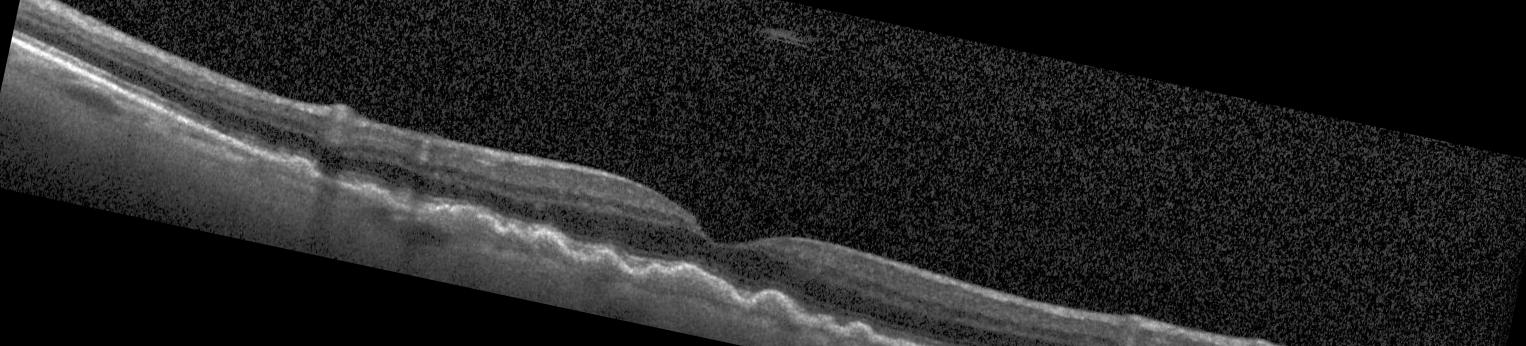subretinal_hyperreflective_material: (423, 204, 634, 275), (639, 262, 741, 306), (263, 154, 321, 178), (748, 291, 791, 319), (342, 182, 394, 203), (843, 322, 873, 339), (808, 314, 833, 330)
